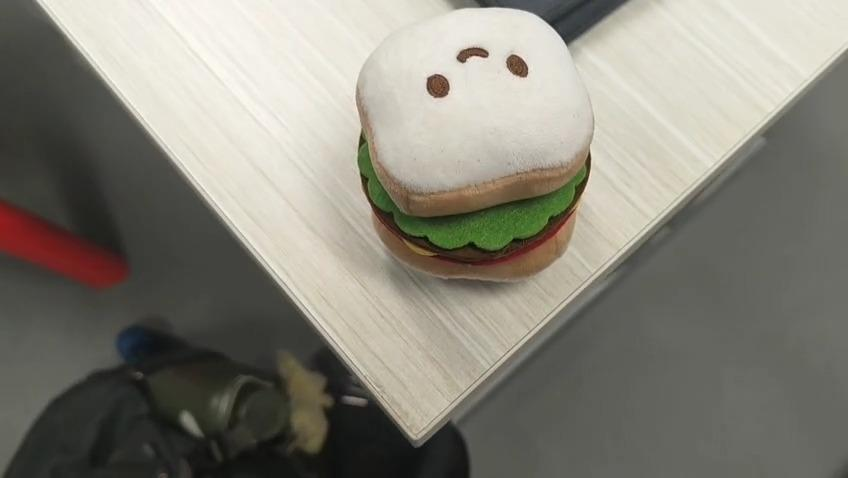objects: (355, 19, 594, 282)
